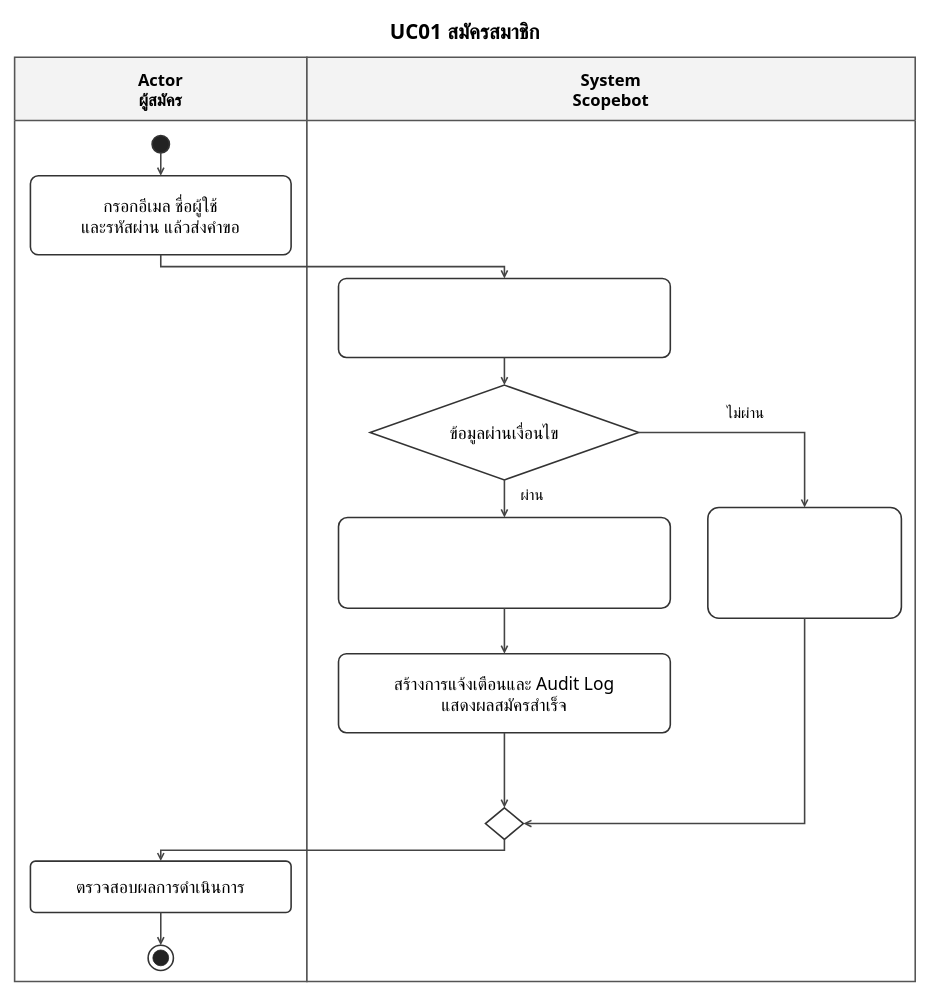
This 929x995 diagram has some shape labels left out. Each missing label, with the centre of its shape:
"ตรวจรูปแบบ ข้อมูลซ้ำ และความยาวรหัสผ่าน" goes at point 504,317.
"แสดงสาเหตุ ให้แก้ไขข้อมูล ไม่สร้างบัญชี" goes at point 804,562.
"แฮชรหัสผ่านและสร้างบัญชี User สถานะรออนุมัติ" goes at point 504,562.
